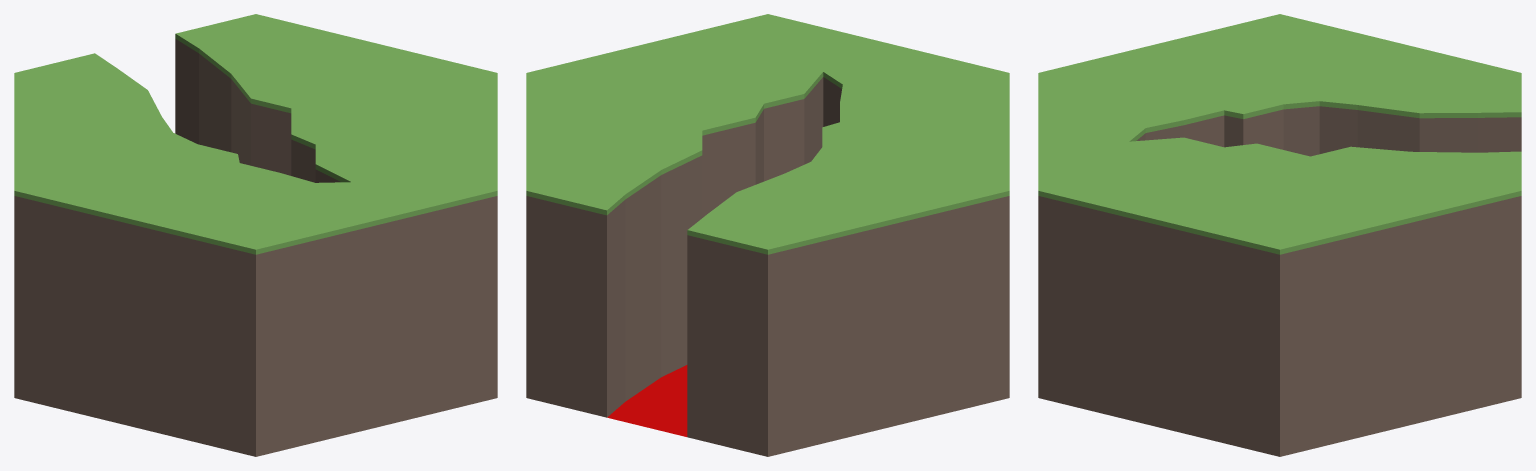
The model's file is tile_Lava03.fbx.
The picture shows the model from 3 angles, left to right: view 1: azimuth 30°, elevation 25°; view 2: azimuth 150°, elevation 25°; view 3: azimuth 270°, elevation 25°; orthographic projection.
Parts seen in each view (by area): view 1: Tile13; view 2: Tile13; view 3: Tile13.
Boxes of the visible parts, x1,y1,x2,y2 form: Tile13: (14, 14, 497, 456); Tile13: (526, 14, 1009, 456); Tile13: (1038, 14, 1521, 456).
Bounding box in the file's own units: 2 × 0.82 × 1.73.
